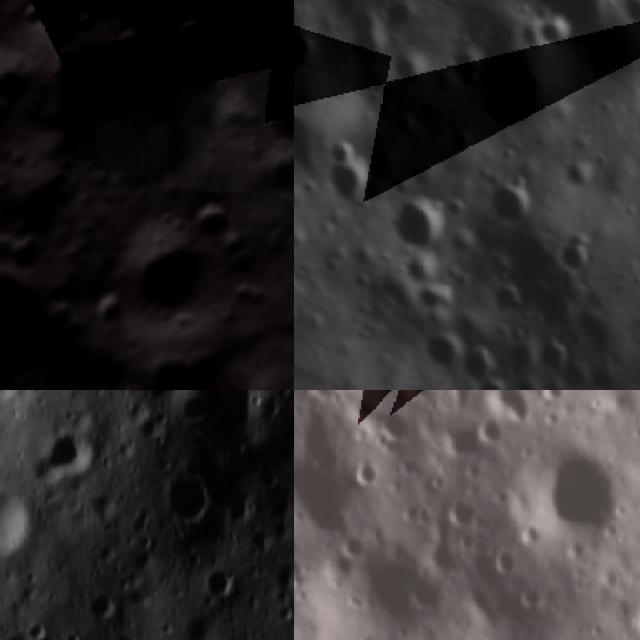crater: (0, 0, 262, 243), (87, 192, 238, 343), (518, 436, 632, 553), (237, 121, 294, 220), (425, 408, 500, 462), (395, 193, 451, 256), (164, 458, 216, 524), (182, 194, 240, 253), (339, 10, 393, 72), (324, 139, 366, 207), (40, 430, 91, 481), (467, 390, 536, 427), (487, 171, 532, 226), (0, 225, 44, 281), (557, 234, 599, 286), (422, 328, 464, 372), (0, 494, 27, 562), (536, 329, 576, 374), (169, 8, 211, 50), (443, 496, 482, 538), (488, 545, 524, 586), (0, 119, 19, 195), (69, 4, 105, 40), (207, 560, 239, 600), (350, 448, 382, 488), (15, 0, 52, 34), (346, 621, 397, 640), (464, 344, 491, 378), (86, 593, 115, 622), (616, 0, 640, 31), (149, 390, 193, 405), (472, 375, 509, 390)
